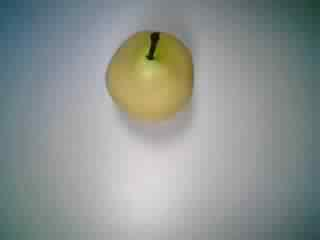pear: (98, 20, 201, 128)
